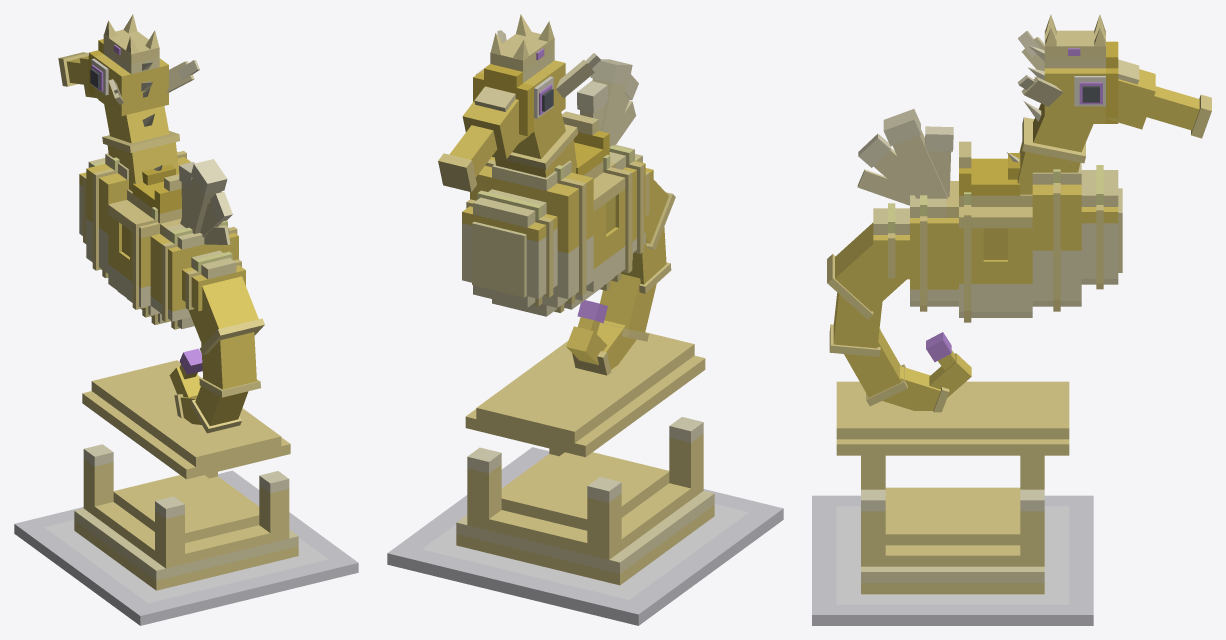
The model's file is SeahorseTrainer9.glb.
3 renders of one model, left to right at view 1: azimuth 30°, elevation 25°; view 2: azimuth 150°, elevation 25°; view 3: azimuth 270°, elevation 25°, orthographic. The views are drawn at different scales.
Parts seen in each view (by area): view 1: Stand, Body, Plate, Head, Fin, T1, T2, T3, T5, T4; view 2: Stand, Body, Plate, Head, Fin, T3, T4, T2, T1, T5; view 3: Stand, Body, Plate, Head, Fin, T1, T2, T3, T4, T5.
Part boxes in pixels (x1,y1,x2,y2): Stand: [14, 444, 358, 625]; Body: [79, 88, 245, 329]; Plate: [82, 360, 290, 479]; Head: [58, 14, 199, 116]; Fin: [179, 159, 232, 244]; T1: [188, 276, 264, 355]; T2: [199, 332, 260, 397]; T3: [190, 386, 248, 433]; T5: [169, 366, 200, 397]; T4: [174, 394, 201, 424]; Stand: [387, 417, 783, 625]; Body: [462, 111, 653, 316]; Plate: [465, 332, 705, 457]; Head: [438, 14, 600, 192]; Fin: [577, 59, 638, 146]; T3: [600, 274, 656, 341]; T4: [572, 320, 636, 375]; T2: [621, 227, 671, 293]; T1: [645, 180, 675, 250]; T5: [566, 326, 607, 365]; Stand: [812, 455, 1093, 625]; Body: [873, 76, 1122, 322]; Plate: [836, 381, 1069, 455]; Head: [1017, 14, 1211, 138]; Fin: [857, 109, 953, 205]; T1: [827, 222, 909, 319]; T2: [829, 293, 882, 357]; T3: [844, 329, 907, 406]; T4: [882, 366, 949, 412]; T5: [929, 353, 971, 397].
Bounding box in the file's own units: 9.2 × 19.66 × 13.06.
